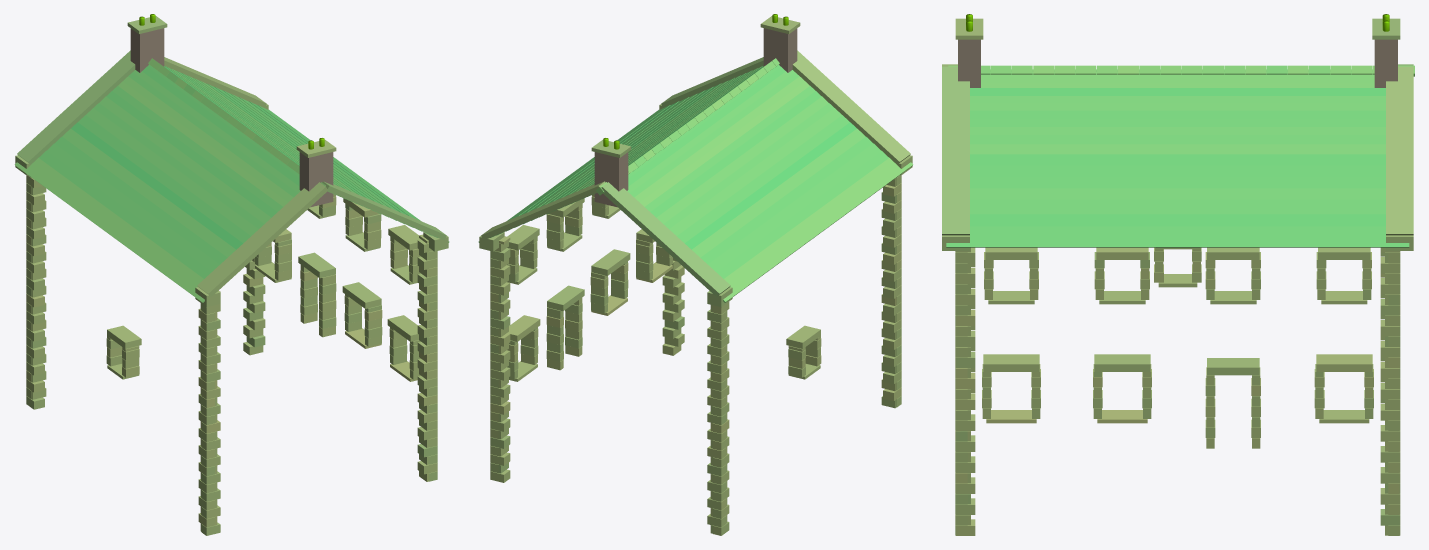
File: SM_Bld_041_Stone.glb
3 views of the same model, side by side, from view 1: azimuth 30°, elevation 25°; view 2: azimuth 150°, elevation 25°; view 3: azimuth 270°, elevation 25° (orthographic). The views are drawn at different scales.
Parts seen in each view (by area): view 1: SM_Bld_041_Stone; view 2: SM_Bld_041_Stone; view 3: SM_Bld_041_Stone.
Part boxes in pixels (x1,y1,x2,y2): SM_Bld_041_Stone: (14,14,449,535); SM_Bld_041_Stone: (478,14,913,535); SM_Bld_041_Stone: (942,14,1414,535).
Size of the model in its own units: 9.11 by 12.8 by 12.25.
